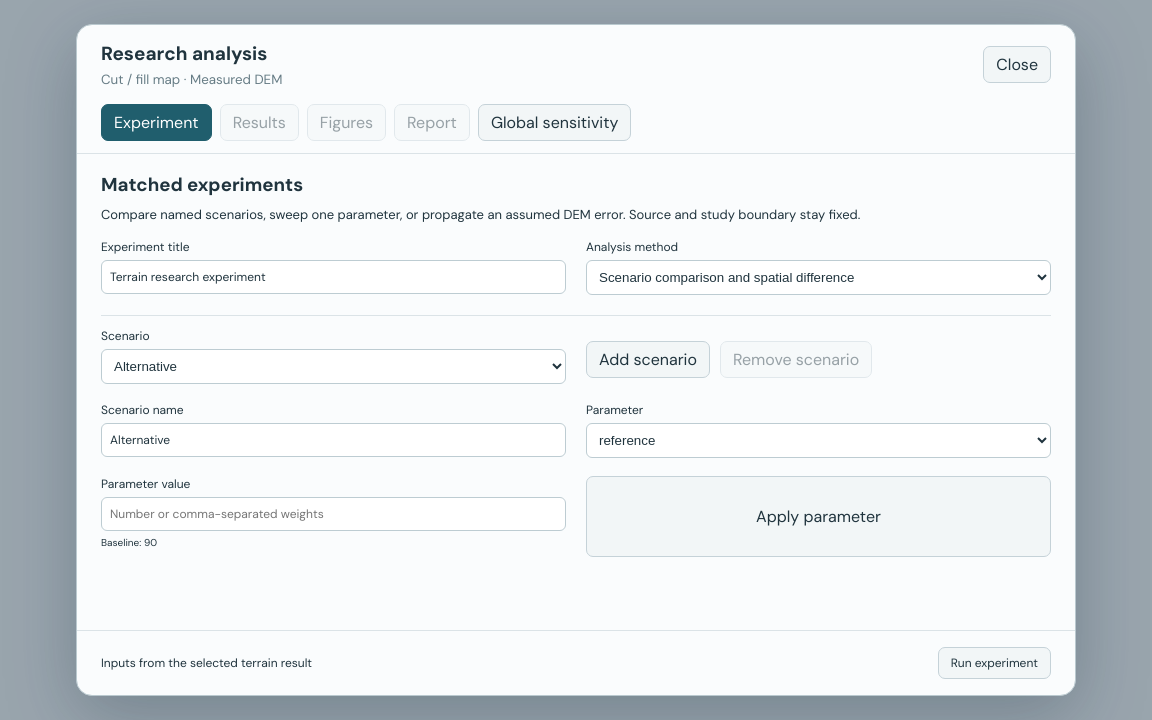
uses enum choices, allows removing overrides, and surfaces server and storage errors
Step 1. Type "95" into the field labelled "Parameter value" → [334, 514], box 101,496 -> 566,530
Step 2. Click the button "Apply parameter" → [818, 516], box 586,476 -> 1051,556
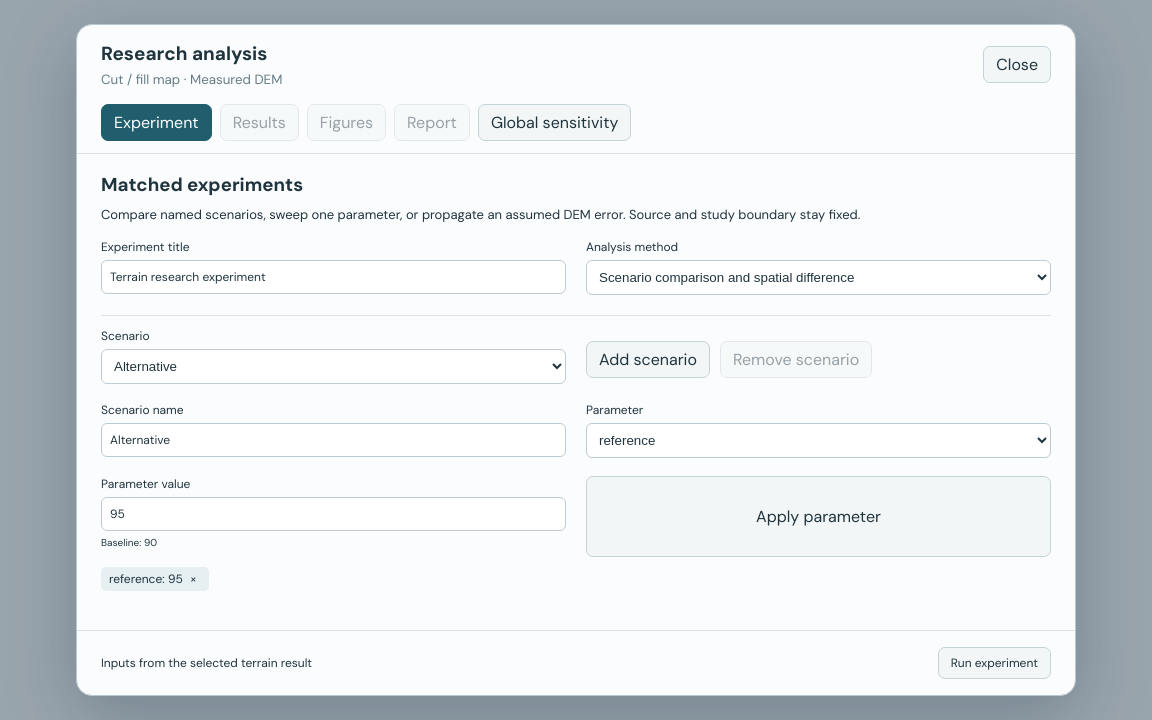
Step 3. Select "gradient method" in the dropdown labelled "Parameter" → [818, 440], box 586,422 -> 1051,458
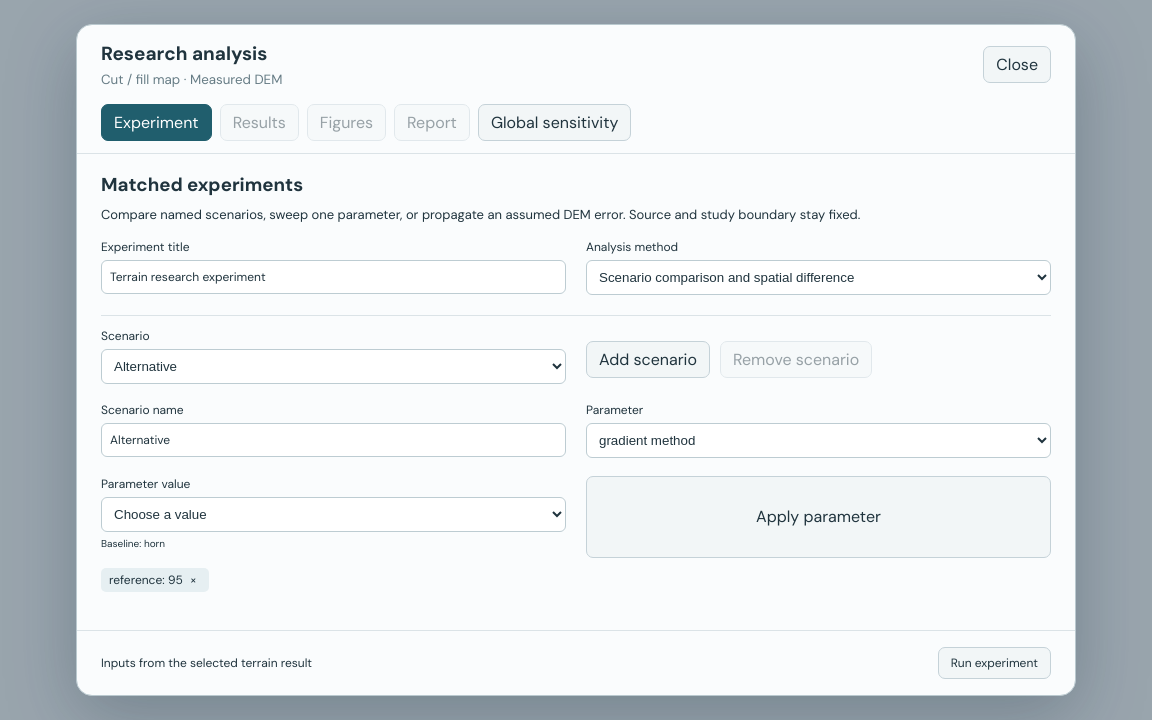
Step 4. Select "zevenbergen thorne" in the dropdown labelled "Parameter value" → [334, 514], box 101,496 -> 566,532
Step 5. Click the button "Apply parameter" → [818, 516], box 586,476 -> 1051,558
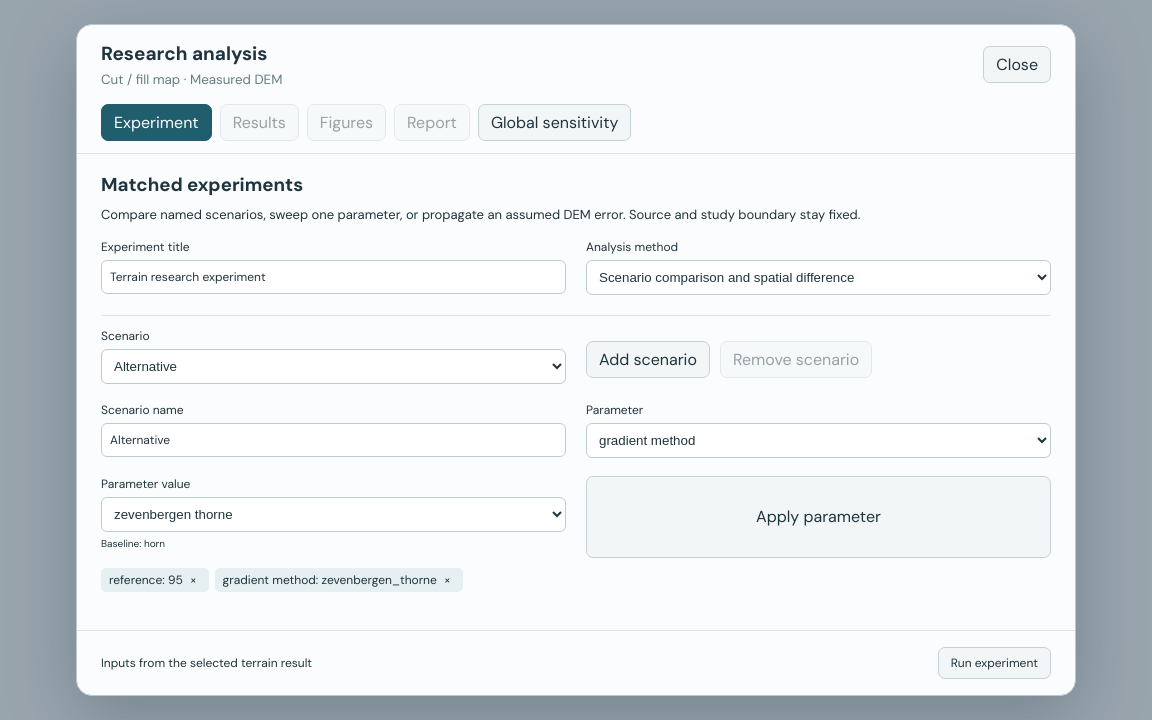
Step 6. Click the button named "Remove gradient_method" → [447, 580], box 440,572 -> 455,588
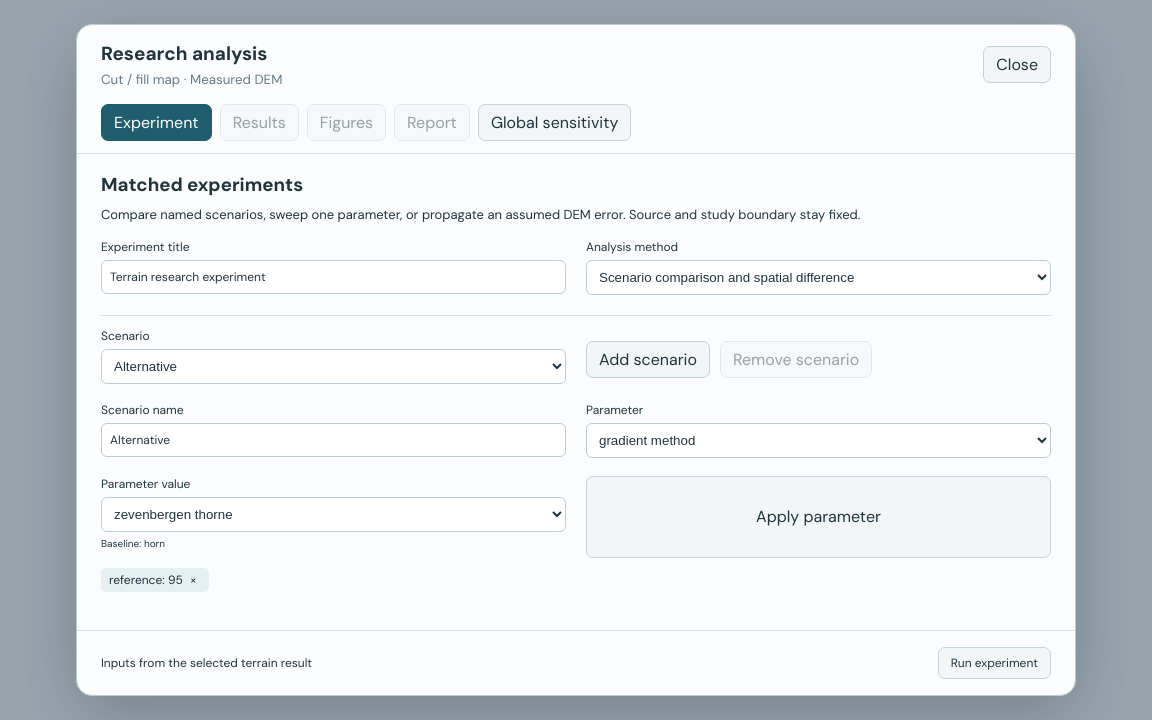
Step 7. Click the button "Run experiment" → [994, 663], box 938,647 -> 1051,679
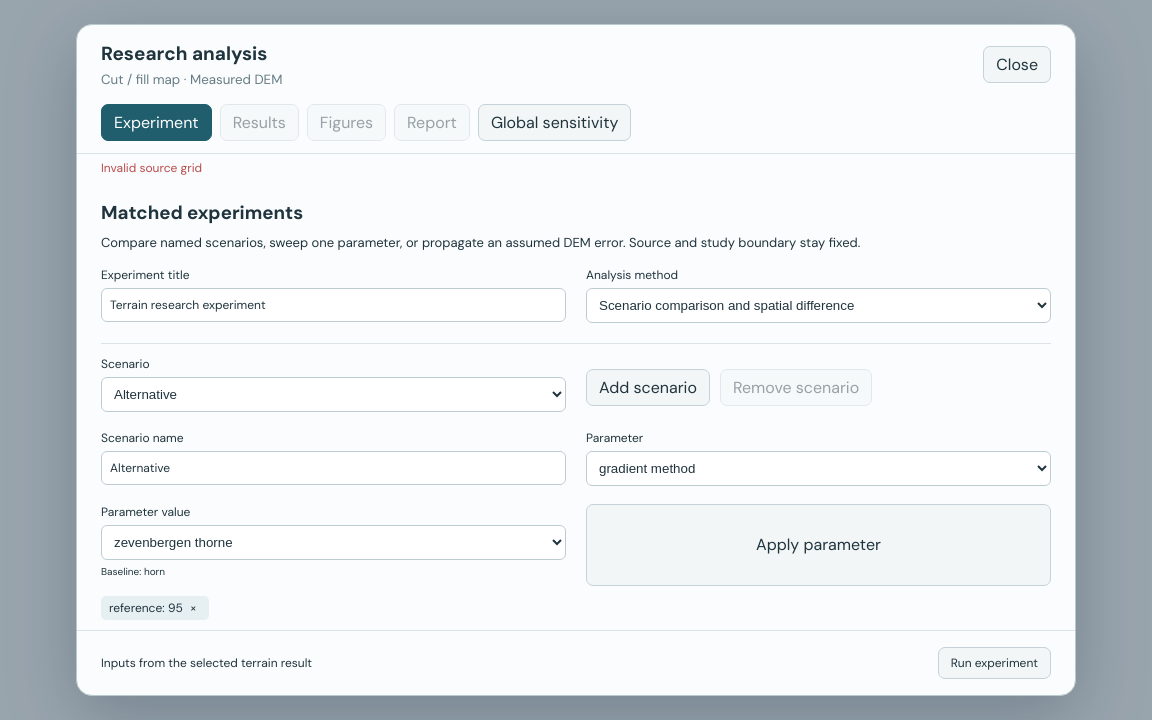
Result: the message reads "Invalid source grid" at 101,160 -> 202,176
Step 8. Click the button "Run experiment" → [994, 663], box 938,647 -> 1051,679
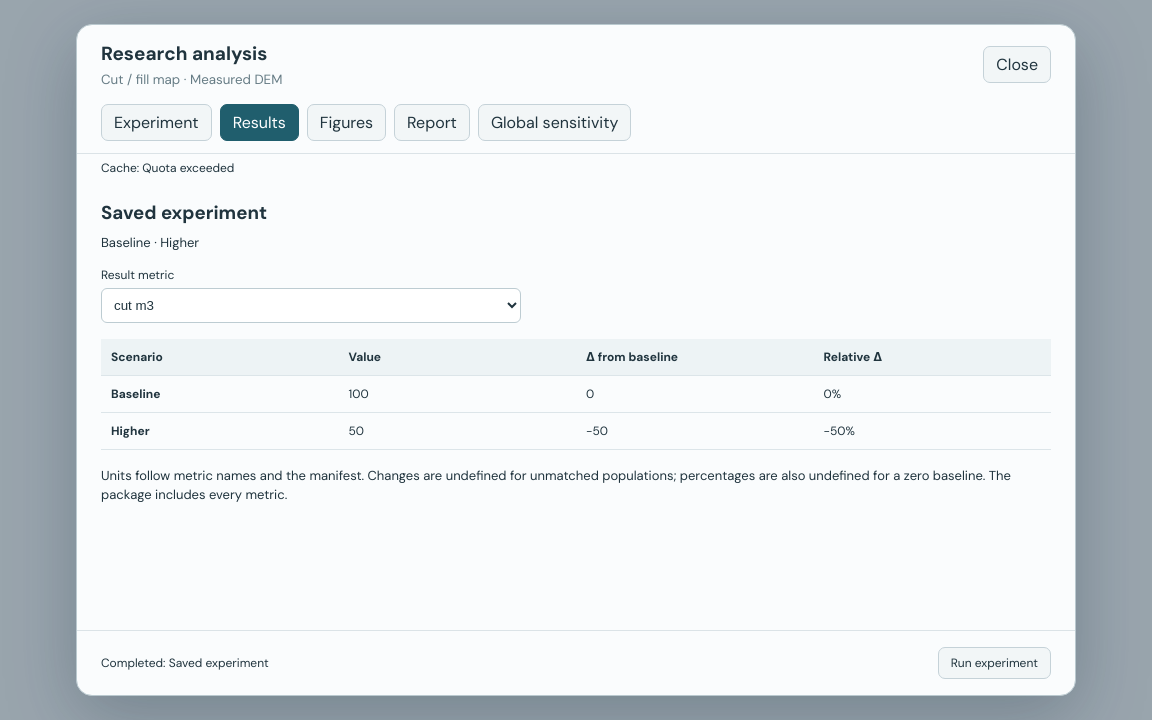
Result: the message shows "Quota exceeded" at 101,160 -> 234,176
